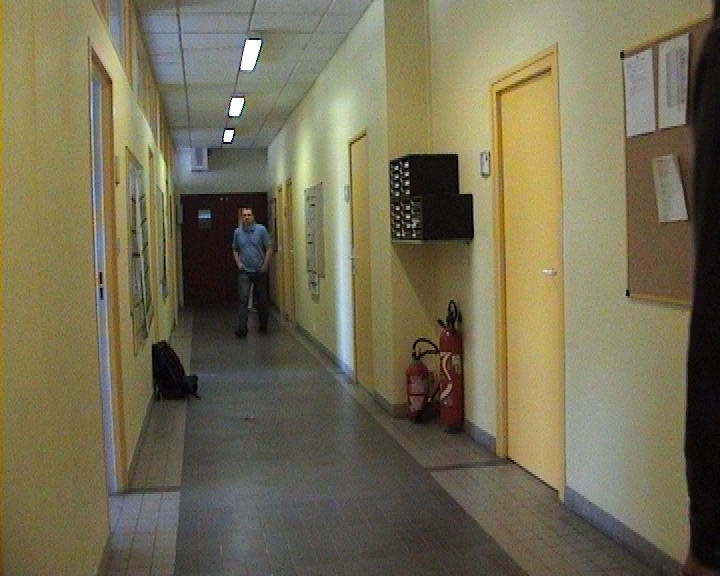leave bag unattended: (134, 323, 213, 413)
